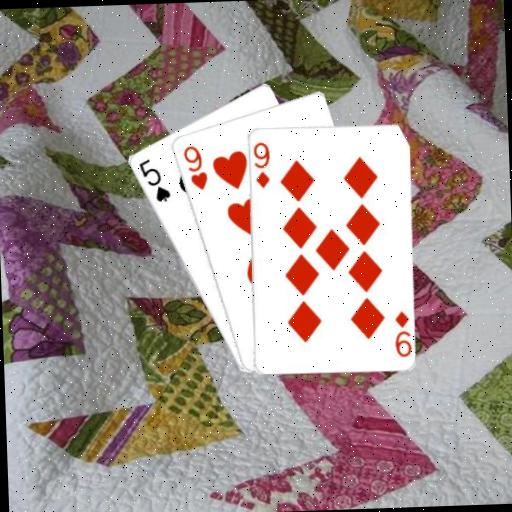5S: (135, 154, 172, 204)
9D: (250, 138, 272, 189), (391, 307, 411, 358)
9H: (179, 141, 209, 192)
